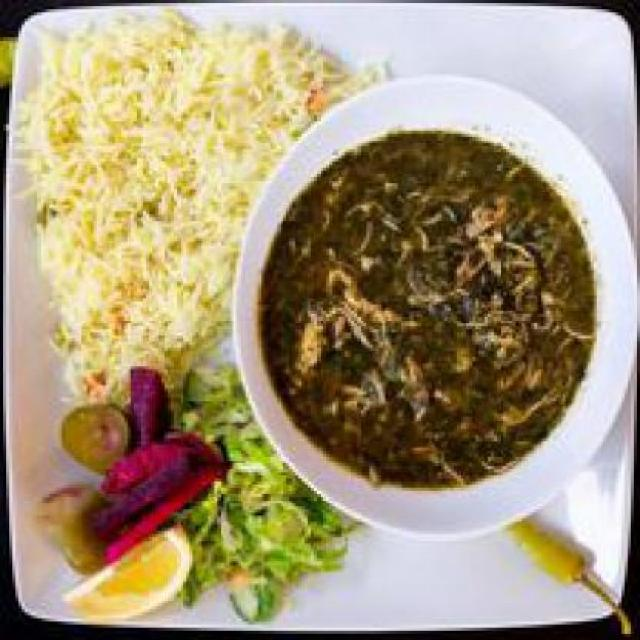beet salad: (43, 372, 302, 606)
fried rice: (15, 16, 268, 370)
molokhia: (261, 133, 605, 501)
